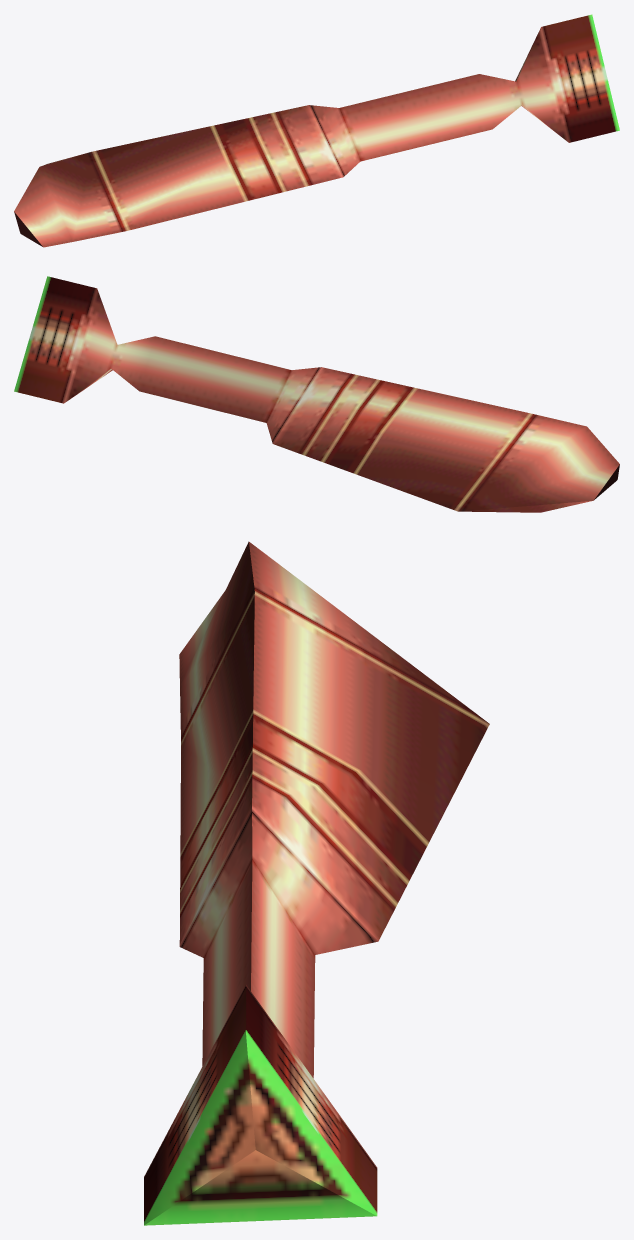
3 views of the same model, one above another, from view 1: azimuth 30°, elevation 25°; view 2: azimuth 150°, elevation 25°; view 3: azimuth 270°, elevation 25° (orthographic). The views are drawn at different scales.
Visible parts, largest first — view 1: BW206; view 2: BW206; view 3: BW206.
Boxes of the visible parts, x1,y1,x2,y2 form: BW206: (14,14,619,247); BW206: (14,276,619,512); BW206: (144,541,489,1225).
Size of the model in its own units: 14.28 by 2.28 by 3.75.
1 material, 1 textured.
